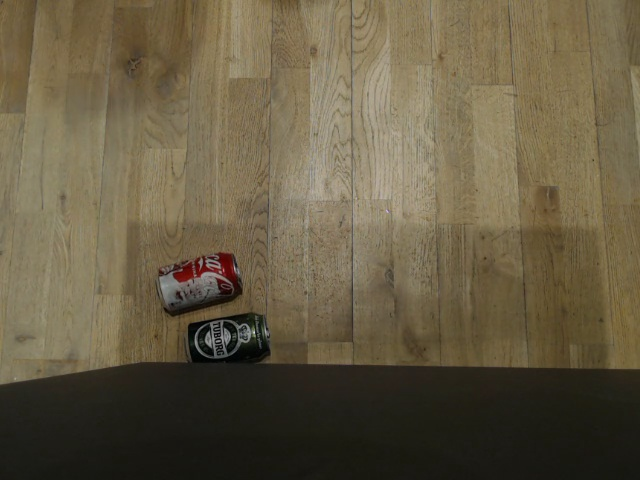beer: (183, 312, 273, 364)
cola: (152, 250, 245, 315)
